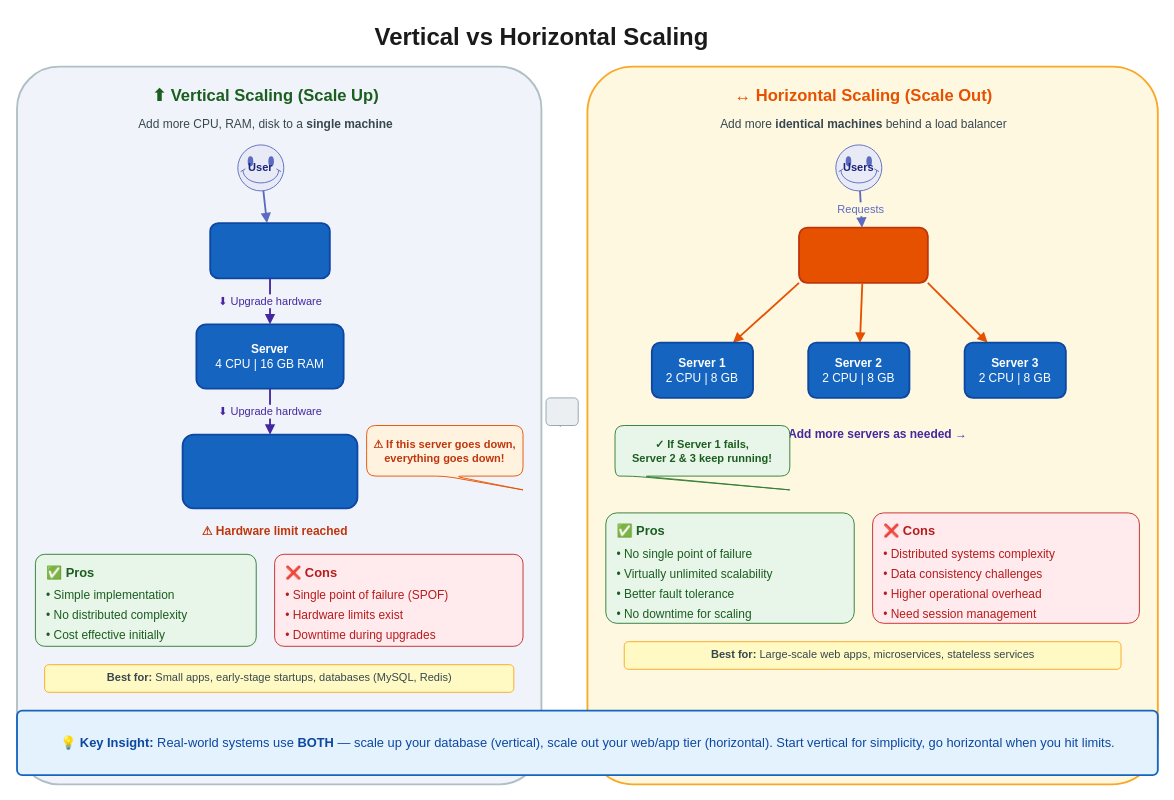
This 1174x800 diagram has some shape labels left out. Each missing label, with the centre of its shape:
"Load Balancer (distributes traffic)" goes at (863,254).
"Server 1 CPU | 4 GB RAM" goes at (269,250).
"Server 16 CPU | 64 GB RAM" goes at (269,471).
"VS" goes at (561,411).
